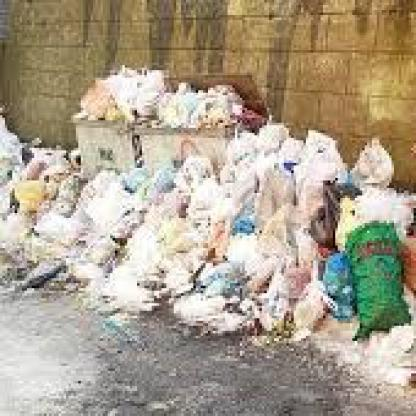Garbage: (240, 136, 414, 388), (58, 170, 260, 338), (2, 100, 76, 298), (86, 70, 164, 123), (144, 92, 250, 126)
